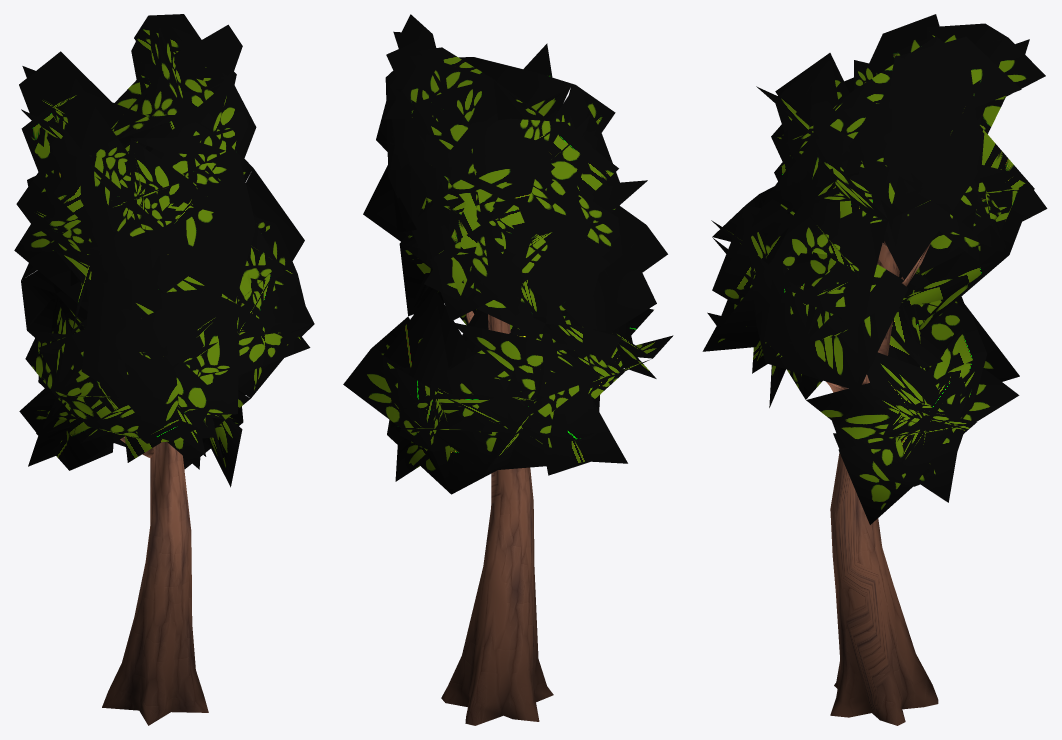
File: CommonTree_3.gltf
3 renders of one model, left to right at view 1: azimuth 30°, elevation 25°; view 2: azimuth 150°, elevation 25°; view 3: azimuth 270°, elevation 25°, orthographic. The views are drawn at different scales.
Parts seen in each view (by area): view 1: CommonTree_3; view 2: CommonTree_3; view 3: CommonTree_3.
Part boxes in pixels (<box>): CommonTree_3: <box>14,14,314,725</box>; CommonTree_3: <box>343,14,673,725</box>; CommonTree_3: <box>702,14,1047,725</box>.
Bounding box in the file's own units: 4.03 × 9.29 × 4.24.
2 materials, 2 textured.
